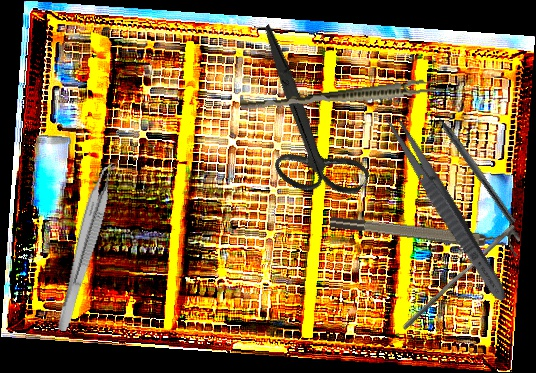Chopper: (424, 96, 525, 226)
Dressing Forceps: (377, 108, 514, 306)
Fixation Ring: (329, 204, 521, 258)
Iris Scissors: (199, 23, 409, 219)
Pusher: (401, 219, 517, 336)
Tissue Forceps: (54, 159, 121, 335), (239, 74, 445, 118)
